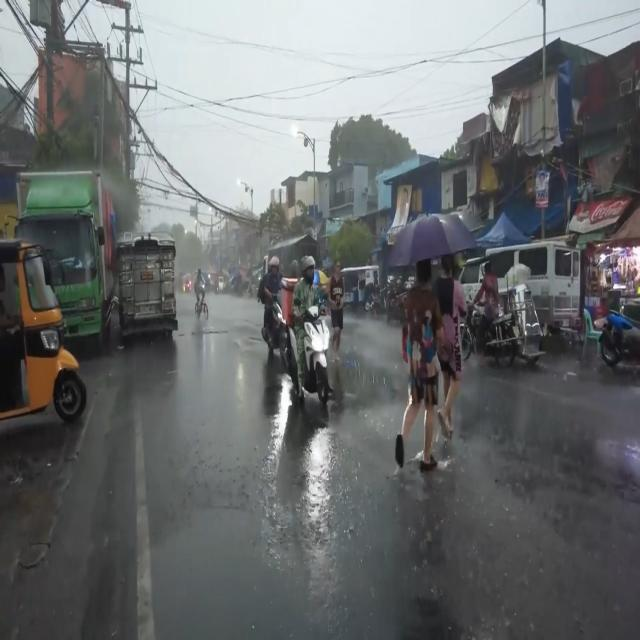full: (300, 253, 316, 286)
half: (268, 256, 280, 279)
